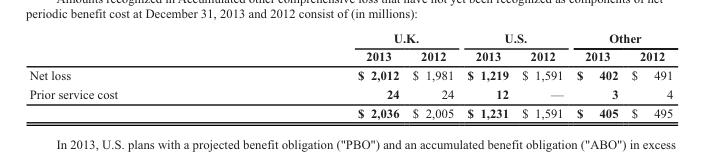table: (28, 28, 672, 121)
table column: (28, 28, 237, 121), (237, 28, 405, 121), (459, 28, 514, 121), (514, 28, 569, 121), (569, 28, 624, 121), (405, 28, 459, 121), (624, 28, 672, 121)
table column header: (28, 28, 672, 64)
table row: (28, 83, 672, 103), (28, 64, 672, 83), (28, 28, 672, 46), (28, 46, 672, 64), (28, 103, 672, 121)
table spanning cell: (237, 28, 459, 46), (459, 28, 569, 46), (569, 28, 672, 46)
